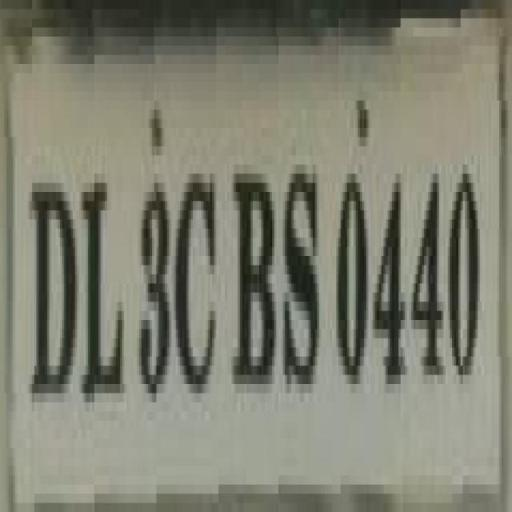number plate: (0, 9, 489, 512)
